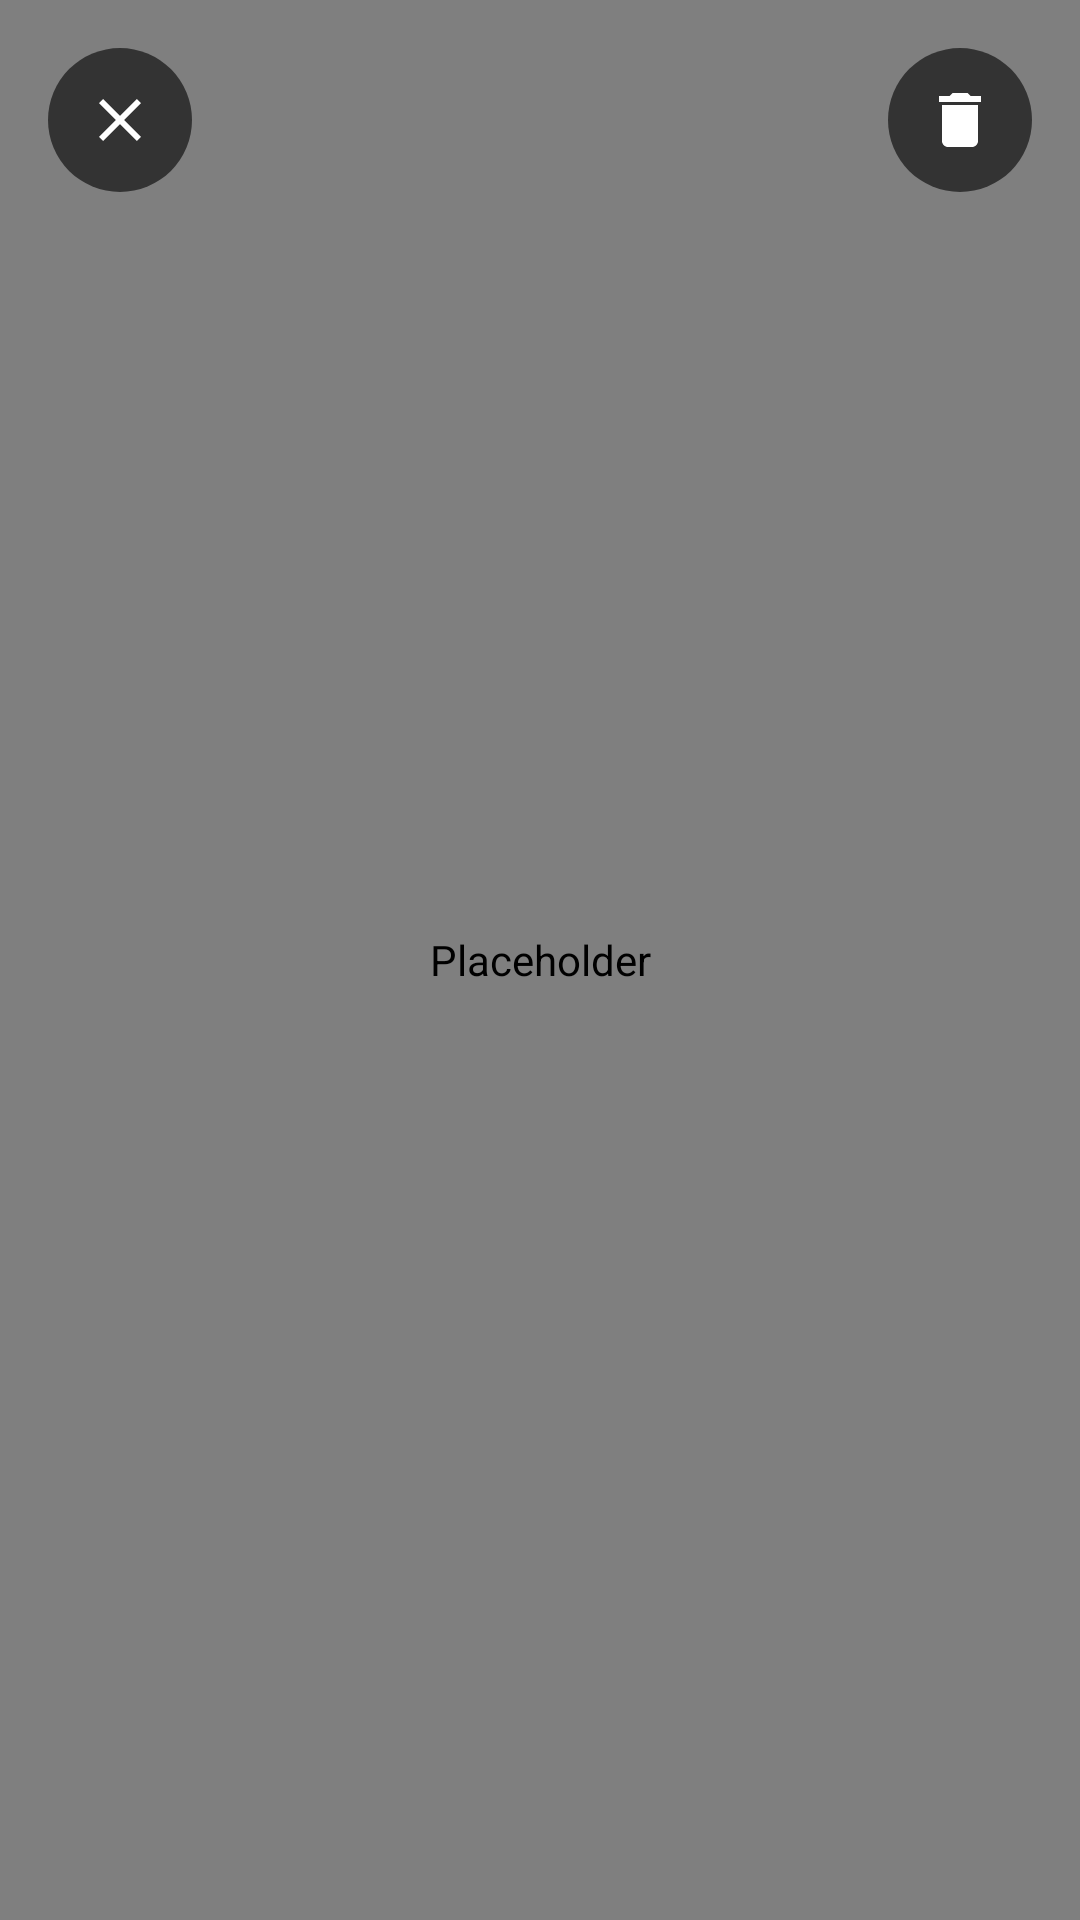

Icons on this 1080px×1920px Android screen, each with its box as [x1,y1,x2,y2]:
Cerrar: [48,48,192,192]
Eliminar foto: [888,48,1032,192]
